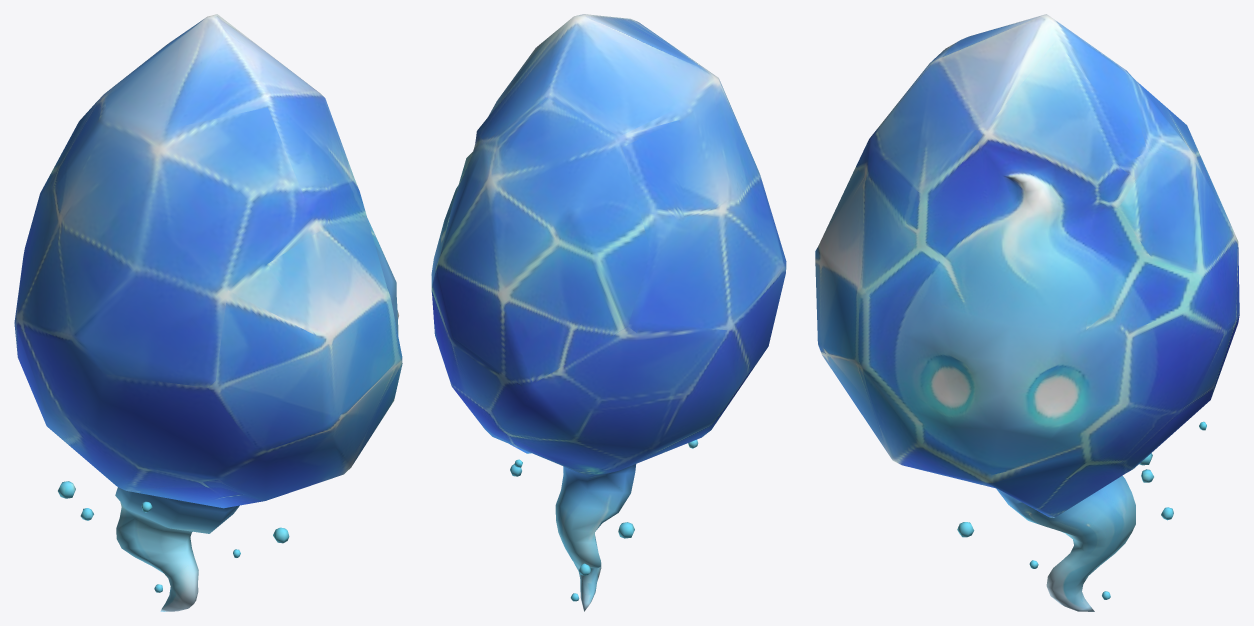
File: crystal_sprite.fbx
3 views of the same model, side by side, from view 1: azimuth 30°, elevation 25°; view 2: azimuth 150°, elevation 25°; view 3: azimuth 270°, elevation 25° (orthographic). The views are drawn at different scales.
Parts seen in each view (by area): view 1: crystal_sprite; view 2: crystal_sprite; view 3: crystal_sprite.
Boxes of the visible parts, x1=… form: crystal_sprite: x1=14, y1=14, x2=402, y2=611; crystal_sprite: x1=431, y1=14, x2=786, y2=611; crystal_sprite: x1=815, y1=14, x2=1239, y2=611.
Size of the model in its own units: 2.84 by 4.99 by 3.15.
1 material, 1 textured.
